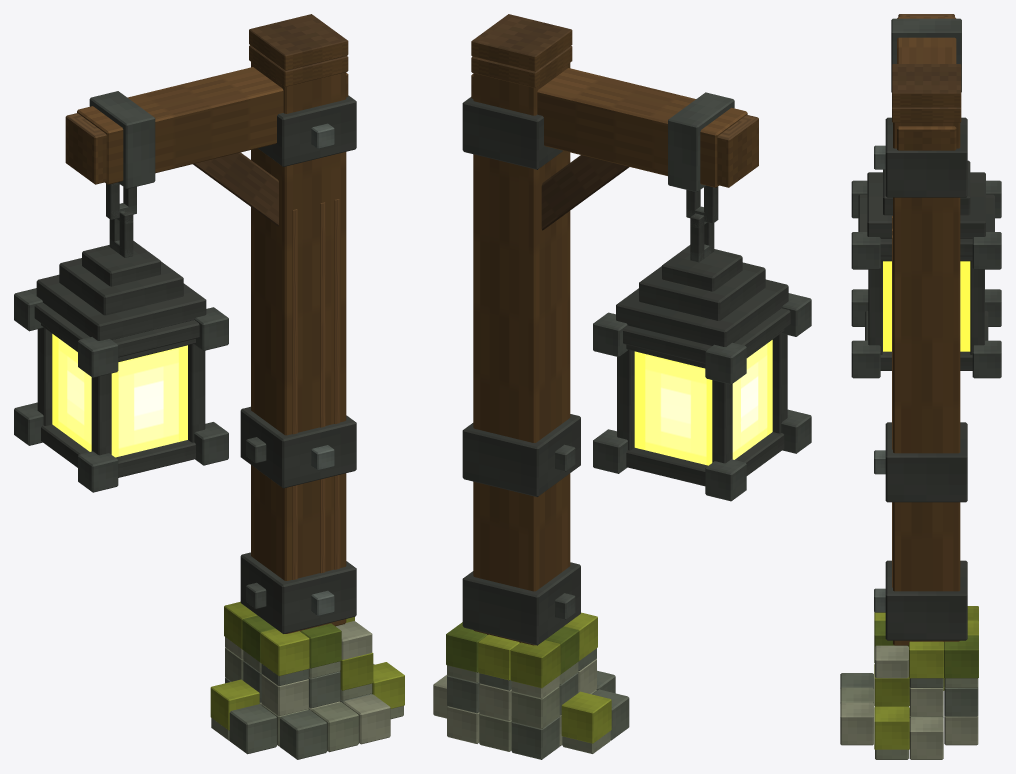
Rendered from SM_HP_Lantern_LOD1.fbx.
The picture shows the model from 3 angles, left to right: view 1: azimuth 30°, elevation 25°; view 2: azimuth 150°, elevation 25°; view 3: azimuth 270°, elevation 25°; orthographic projection. The views are drawn at different scales.
Parts seen in each view (by area): view 1: SM_HP_Lantern_LOD1; view 2: SM_HP_Lantern_LOD1; view 3: SM_HP_Lantern_LOD1.
Boxes of the visible parts, x1=… form: SM_HP_Lantern_LOD1: x1=14, y1=14, x2=404, y2=759; SM_HP_Lantern_LOD1: x1=433, y1=14, x2=811, y2=759; SM_HP_Lantern_LOD1: x1=840, y1=14, x2=1001, y2=759.
Size of the model in its own units: 159 by 72.05 by 318.
Materials: 1 (1 with a texture image).
